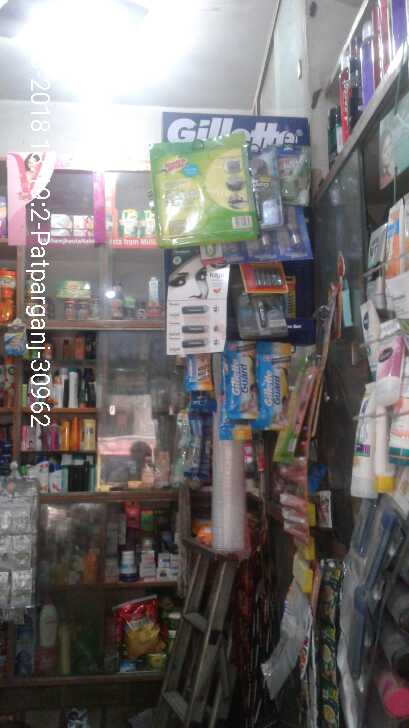gillette: (222, 341, 259, 422), (256, 344, 287, 433)
